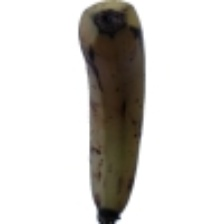banana: (40, 22, 220, 222)
